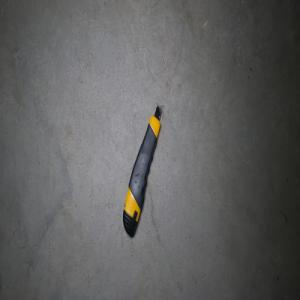Cutter: (121, 102, 164, 237)
